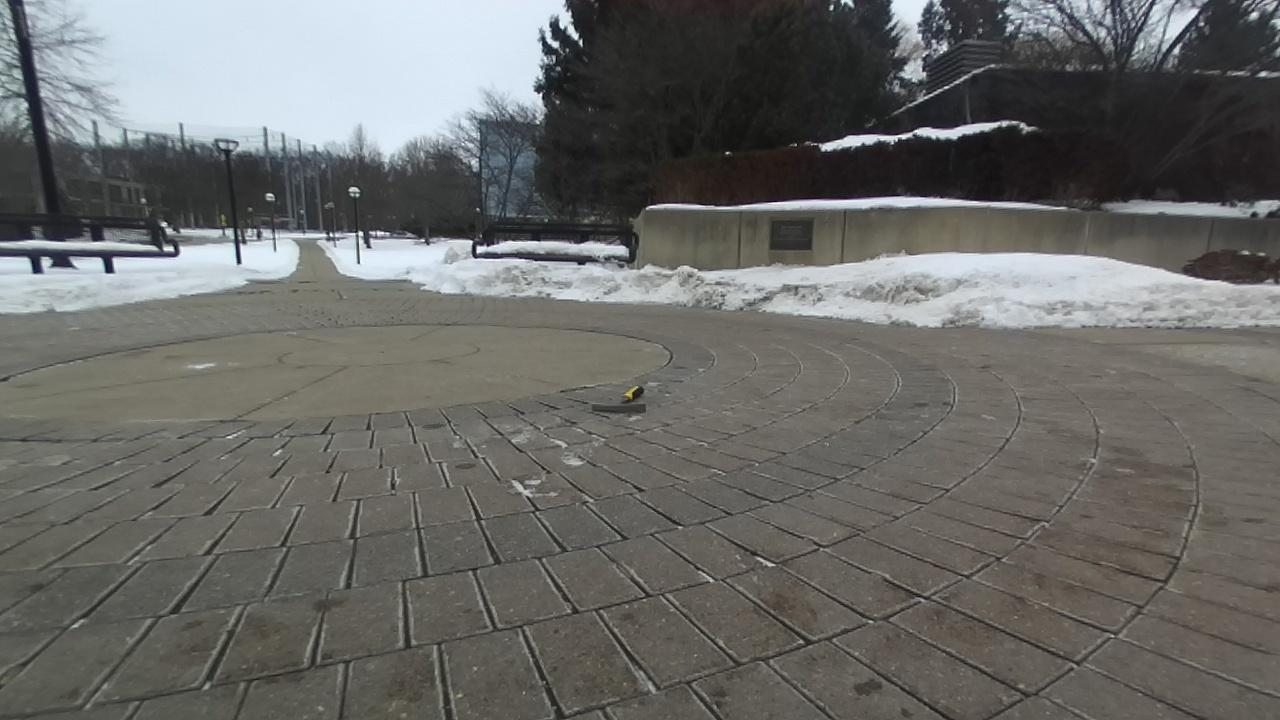pick: (592, 386, 646, 412)
